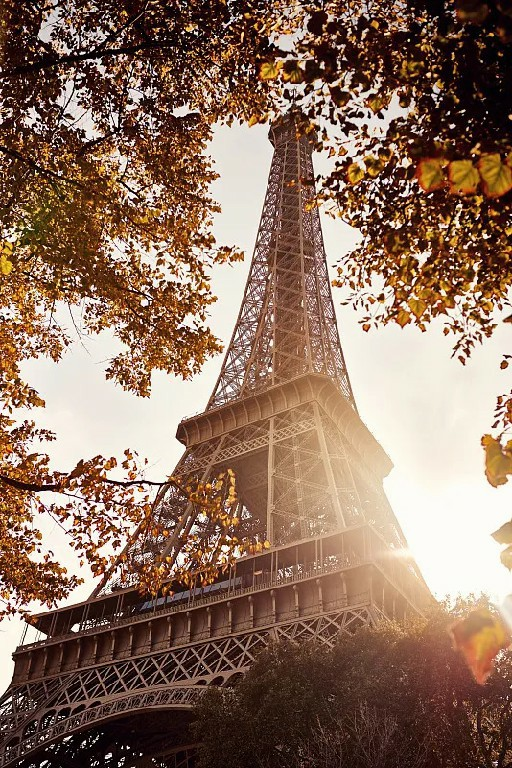Eiffel: (2, 92, 438, 768)
